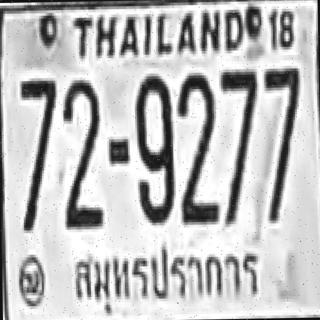N00: (134, 74, 172, 221)
N02: (176, 70, 217, 216), (61, 77, 101, 219), (176, 73, 216, 206), (61, 77, 101, 208)
N07: (18, 78, 57, 228), (220, 66, 258, 218), (262, 66, 300, 218), (262, 66, 300, 199), (220, 66, 258, 192), (19, 78, 57, 192), (220, 66, 257, 173), (262, 66, 300, 166), (220, 66, 257, 159), (20, 78, 56, 171)
N09: (134, 73, 172, 223)
P57: (64, 244, 265, 307)
